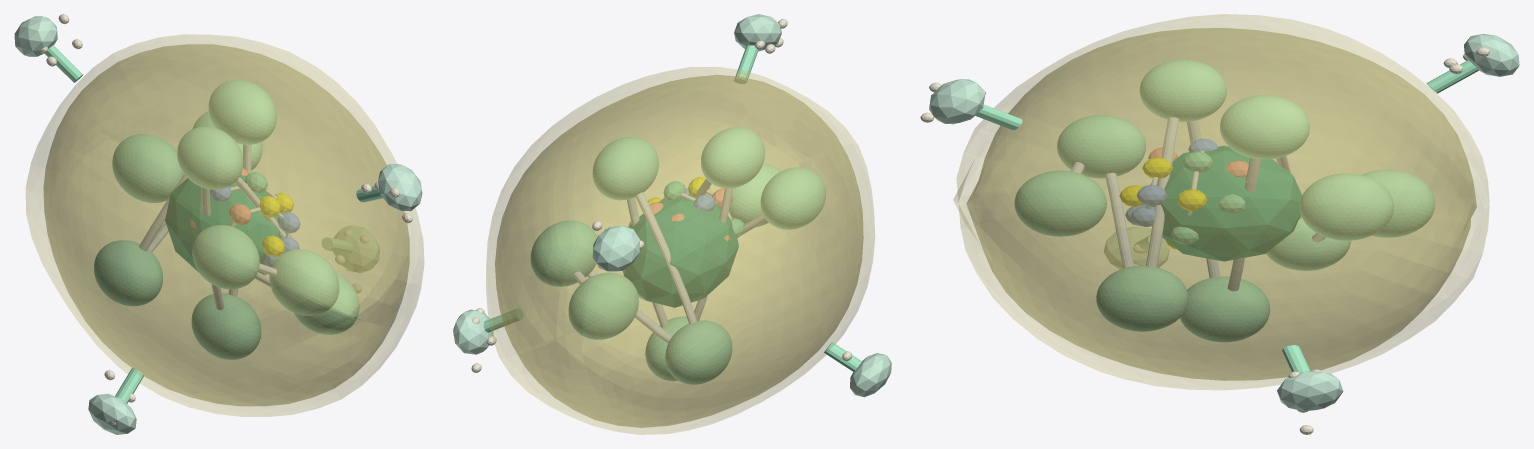
The model's file is virus_virus_ficticio_e_8280297.glb.
3 views of the same model, side by side, from view 1: azimuth 30°, elevation 25°; view 2: azimuth 150°, elevation 25°; view 3: azimuth 270°, elevation 25° (orthographic). The views are drawn at different scales.
Parts seen in each view (by area): view 1: geometry_0, geometry_1, geometry_2, geometry_104, geometry_96, geometry_102, geometry_100, geometry_101, geometry_97, geometry_99, geometry_158, geometry_170 (+4 smaller); view 2: geometry_0, geometry_1, geometry_2, geometry_104, geometry_103, geometry_102, geometry_101, geometry_97, geometry_99, geometry_152, geometry_158, geometry_170 (+3 smaller); view 3: geometry_0, geometry_1, geometry_2, geometry_103, geometry_98, geometry_96, geometry_101, geometry_100, geometry_97, geometry_99, geometry_104, geometry_152 (+4 smaller).
Boxes of the visible parts, box(x1,y1,x2,y2) form: geometry_0: box(26, 34, 424, 416); geometry_1: box(43, 44, 409, 406); geometry_2: box(165, 175, 286, 273); geometry_104: box(112, 134, 183, 202); geometry_96: box(269, 249, 339, 315); geometry_102: box(94, 240, 162, 306); geometry_100: box(191, 293, 261, 359); geometry_101: box(208, 79, 276, 144); geometry_97: box(192, 225, 259, 289); geometry_99: box(177, 126, 243, 189); geometry_158: box(88, 368, 143, 434); geometry_170: box(14, 16, 82, 82); geometry_0: box(486, 67, 874, 434); geometry_1: box(495, 74, 863, 427); geometry_2: box(623, 195, 738, 307); geometry_104: box(568, 272, 638, 339); geometry_103: box(530, 220, 597, 286); geometry_102: box(665, 320, 732, 384); geometry_101: box(592, 137, 658, 200); geometry_97: box(760, 167, 825, 229); geometry_99: box(701, 127, 764, 188); geometry_152: box(734, 14, 781, 83); geometry_158: box(824, 342, 891, 397); geometry_170: box(592, 226, 639, 271); geometry_0: box(953, 14, 1489, 389); geometry_1: box(966, 28, 1476, 380); geometry_2: box(1151, 145, 1301, 261); geometry_103: box(1299, 173, 1393, 240); geometry_98: box(1096, 265, 1188, 331); geometry_96: box(1014, 170, 1106, 236); geometry_101: box(1220, 95, 1309, 159); geometry_100: box(1180, 276, 1270, 342); geometry_97: box(1057, 115, 1145, 178); geometry_99: box(1139, 59, 1226, 121); geometry_104: box(1362, 169, 1435, 237); geometry_152: box(929, 79, 1022, 130).
Size of the model in its own units: 12.72 by 11 by 17.51.
